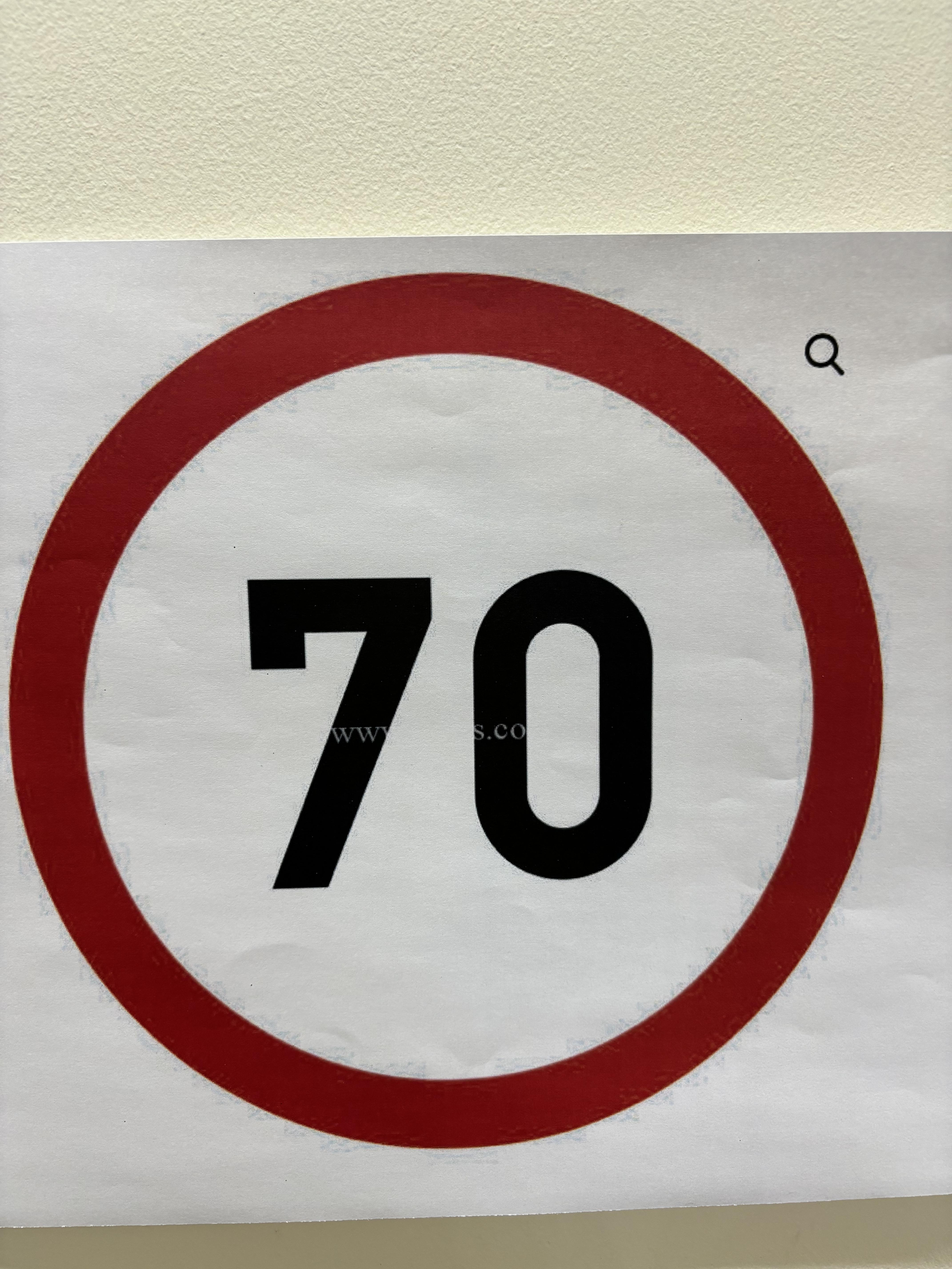70-Speed: (18, 276, 889, 1153)
